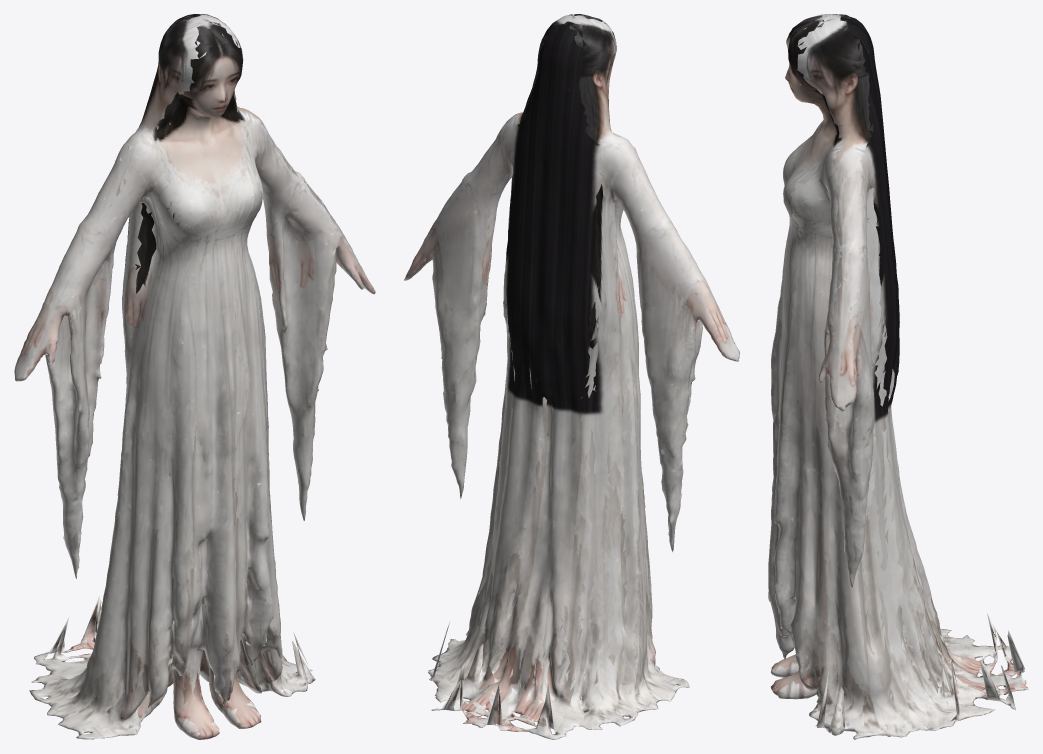
File: lin_v1.glb
3 renders of one model, left to right at view 1: azimuth 30°, elevation 25°; view 2: azimuth 150°, elevation 25°; view 3: azimuth 270°, elevation 25°, orthographic. The views are drawn at different scales.
Parts seen in each view (by area): view 1: geometry_0; view 2: geometry_0; view 3: geometry_0.
Part boxes in pixels (box(x1,y1,x2,y2)): geometry_0: box(14, 14, 375, 739); geometry_0: box(404, 14, 739, 739); geometry_0: box(768, 14, 1028, 739).
Bounding box in the file's own units: 1.07 × 1.96 × 0.6952.
Materials: 1 (1 with a texture image).
